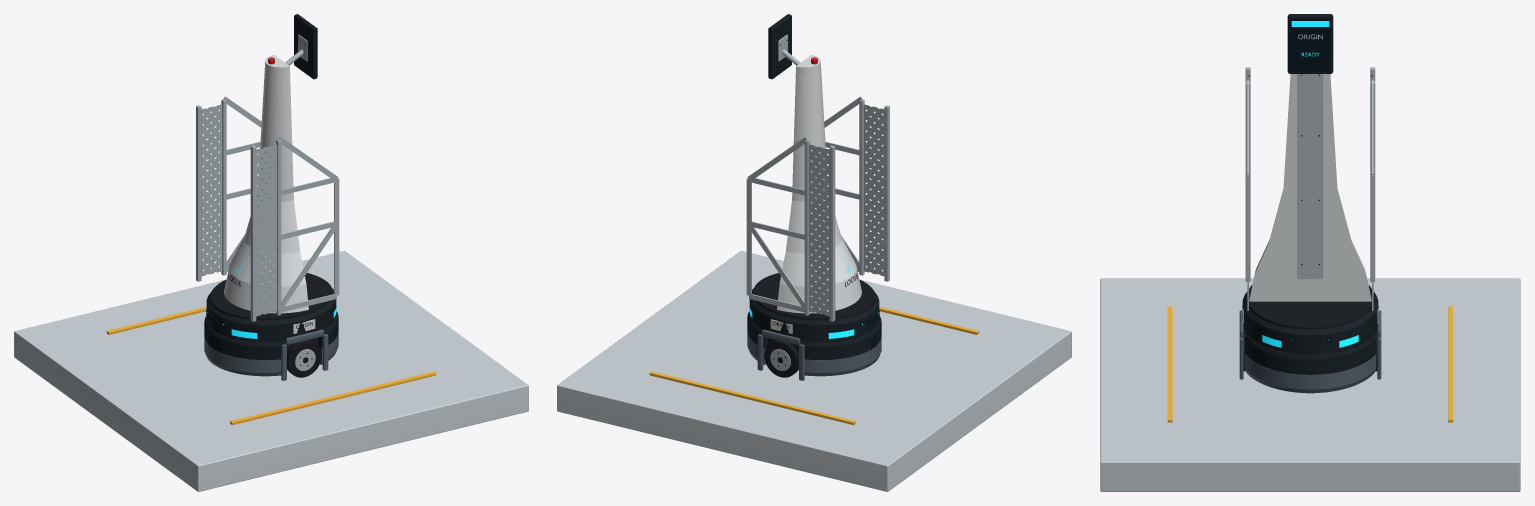
The picture shows the model from 3 angles, left to right: view 1: azimuth 30°, elevation 25°; view 2: azimuth 150°, elevation 25°; view 3: azimuth 270°, elevation 25°; orthographic projection. The views are drawn at different scales.
Visible parts, largest first — view 1: Ground plane, Origin continuous formed cone shell, Origin open circular-perforation shelf upright, Origin open circular-perforation shelf upright.001, Origin sensor ring, Origin graphite lower chassis, Origin rubber upper seam, Origin grey lower protective bumper, Origin folded upright front flange, Concept clearance guide, Origin portrait tablet enclosure, Origin folded upright front flange.001 (+5 smaller); view 2: Ground plane, Origin continuous formed cone shell, Origin open circular-perforation shelf upright.001, Origin open circular-perforation shelf upright, Origin sensor ring, Origin graphite lower chassis, Origin rubber upper seam, Origin grey lower protective bumper, Origin folded upright front flange.001, Concept clearance guide.001, Origin portrait tablet enclosure, Origin folded upright front flange (+5 smaller); view 3: Ground plane, Origin continuous formed cone shell, Origin rear service spine, Origin sensor ring, Origin rubber upper seam, Origin graphite lower chassis, Origin grey lower protective bumper, Origin portrait screen, Origin folded upright rear flange, Origin folded upright rear flange.001, Origin portrait tablet enclosure, Concept clearance guide (+1 smaller).
Boxes of the visible parts, box(x1,y1,x2,y2) form: Ground plane: box(14, 250, 528, 491); Origin continuous formed cone shell: box(224, 55, 308, 313); Origin open circular-perforation shelf upright: box(256, 144, 277, 316); Origin open circular-perforation shelf upright.001: box(201, 104, 222, 276); Origin sensor ring: box(206, 288, 336, 342); Origin graphite lower chassis: box(204, 311, 338, 360); Origin rubber upper seam: box(210, 273, 332, 320); Origin grey lower protective bumper: box(204, 331, 338, 376); Origin folded upright front flange: box(250, 145, 256, 321); Concept clearance guide: box(230, 371, 436, 425); Origin portrait tablet enclosure: box(294, 14, 317, 79); Origin folded upright front flange.001: box(196, 105, 201, 281); Ground plane: box(557, 250, 1071, 491); Origin continuous formed cone shell: box(777, 55, 861, 313); Origin open circular-perforation shelf upright.001: box(808, 144, 829, 316); Origin open circular-perforation shelf upright: box(863, 104, 884, 276); Origin sensor ring: box(749, 288, 879, 342); Origin graphite lower chassis: box(747, 311, 881, 360); Origin rubber upper seam: box(753, 273, 875, 320); Origin grey lower protective bumper: box(747, 331, 881, 376); Origin folded upright front flange.001: box(829, 145, 835, 321); Concept clearance guide.001: box(649, 371, 855, 425); Origin portrait tablet enclosure: box(768, 14, 791, 79); Origin folded upright front flange: box(884, 105, 889, 281); Ground plane: box(1100, 278, 1520, 491); Origin continuous formed cone shell: box(1249, 74, 1371, 301); Origin rear service spine: box(1297, 74, 1323, 279); Origin sensor ring: box(1242, 292, 1378, 354); Origin rubber upper seam: box(1246, 285, 1374, 329); Origin graphite lower chassis: box(1243, 329, 1377, 374); Origin grey lower protective bumper: box(1244, 354, 1376, 393); Origin portrait screen: box(1290, 19, 1330, 71); Origin folded upright rear flange: box(1245, 81, 1250, 281); Origin folded upright rear flange.001: box(1370, 81, 1375, 281); Origin portrait tablet enclosure: box(1287, 14, 1333, 73); Concept clearance guide: box(1167, 306, 1172, 422).
Bounding box in the file's own units: 1.56 × 1.6 × 1.51.
